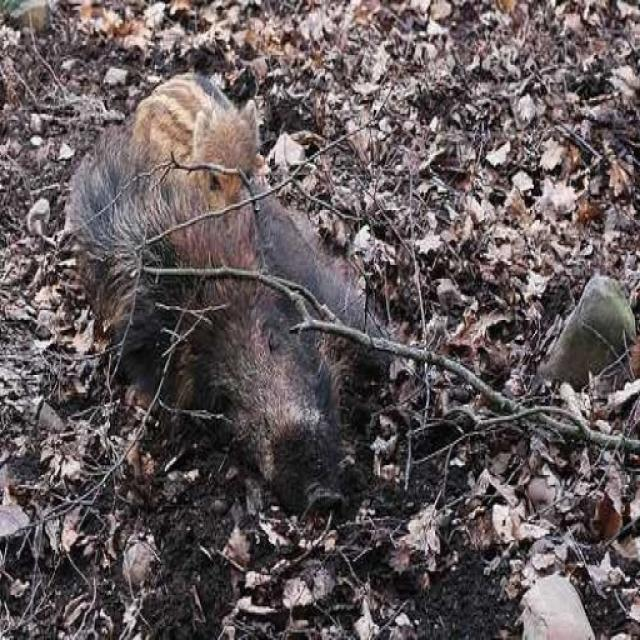pig: (80, 34, 458, 504)
